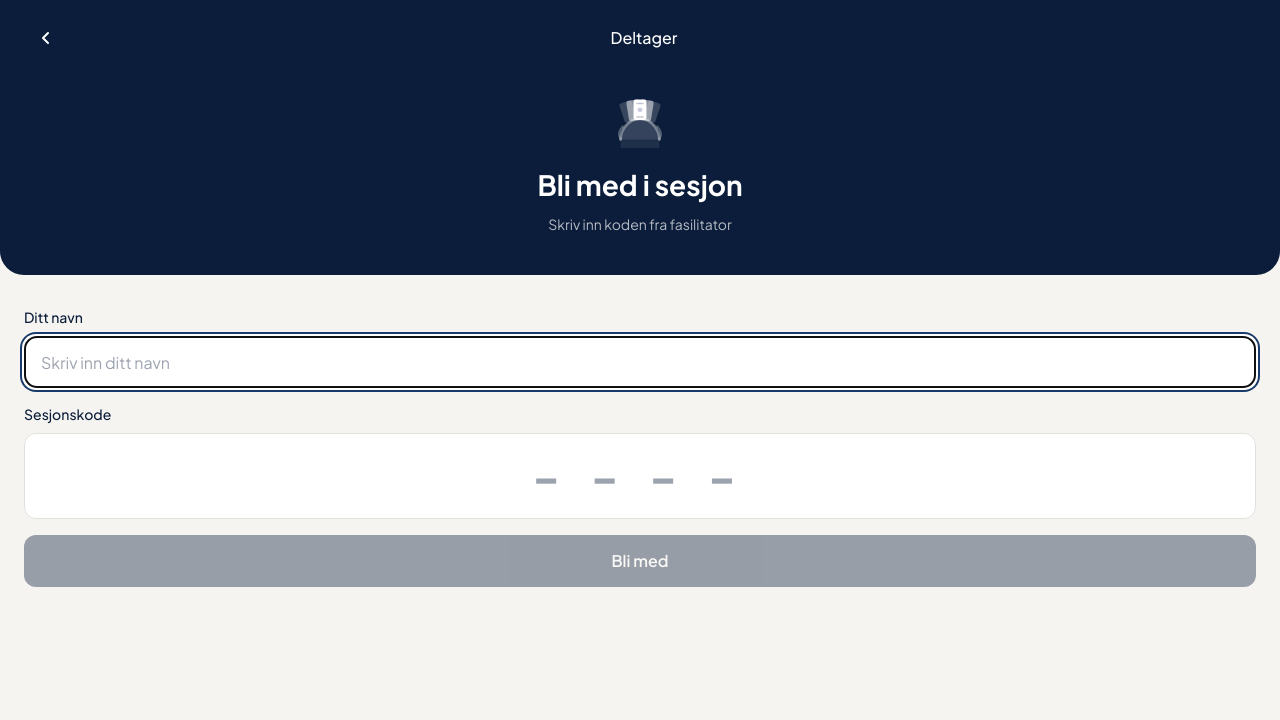
Test: DeltagerJoinPage › viser nettverksfeil separat fra ugyldig kode
Type "Ola" into the field labelled "Ditt navn". click: (640, 362)
box: [24,336,1256,388]
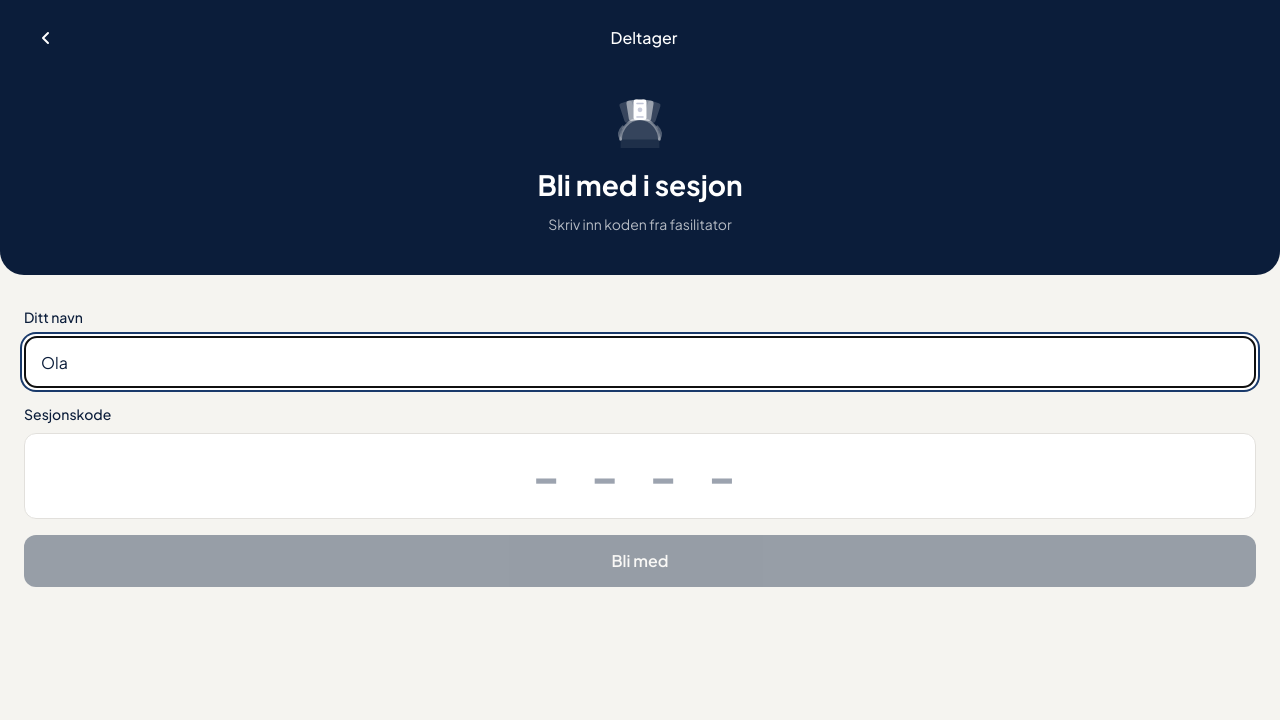
Type "ABCD" into the field labelled "Sesjonskode". click: (640, 476)
box: [24,433,1256,519]
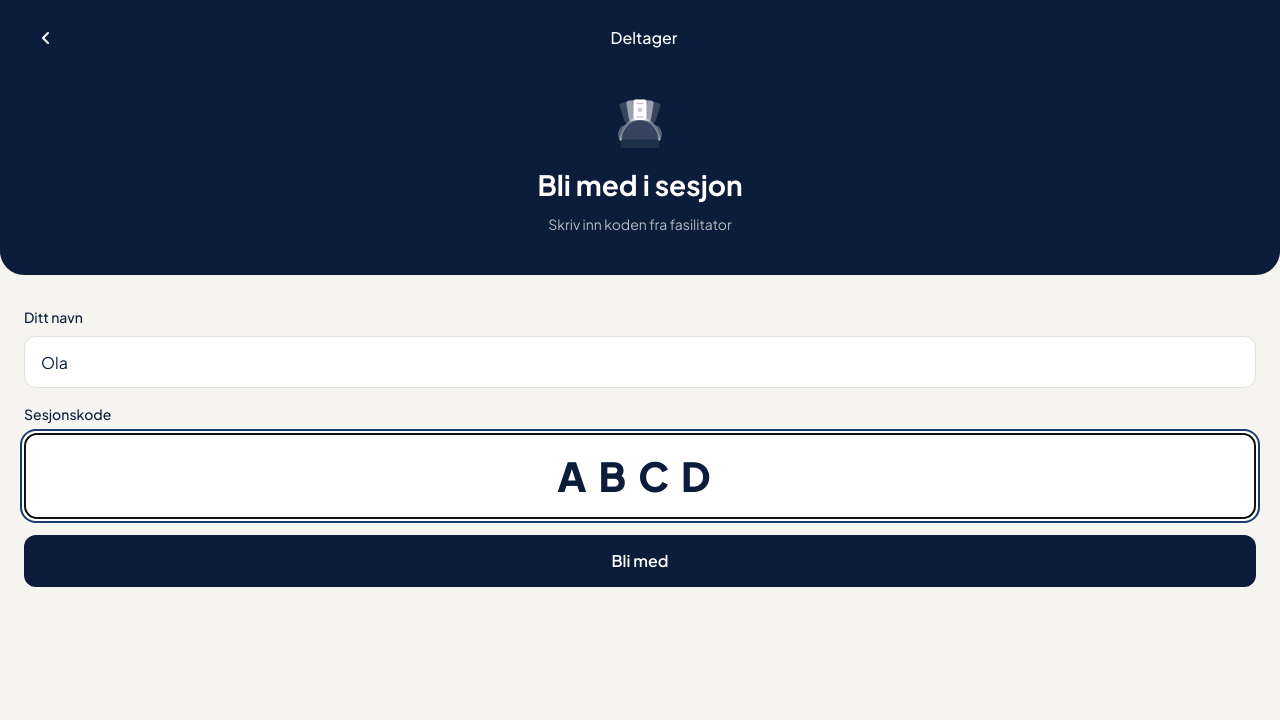
Click the button "Bli med". click: (640, 561)
box: [24,535,1256,587]
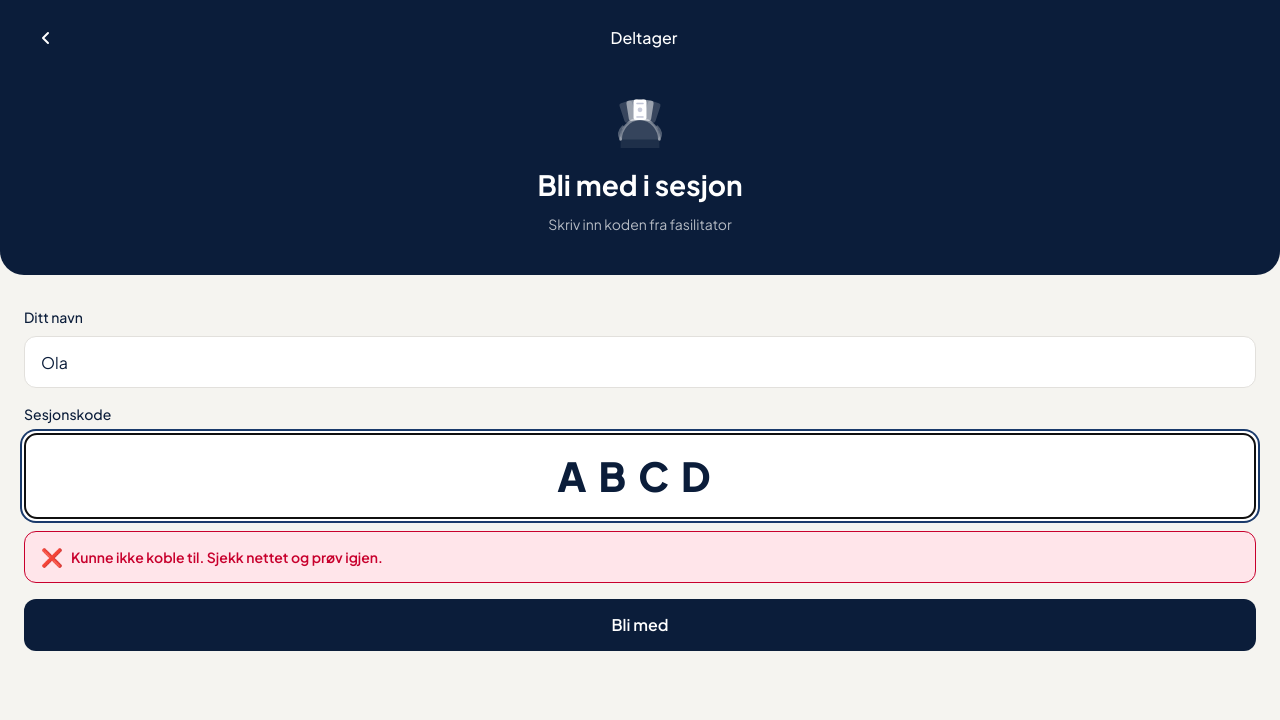
Expected: the message shows "Sjekk nettet", [71,548,383,566]
